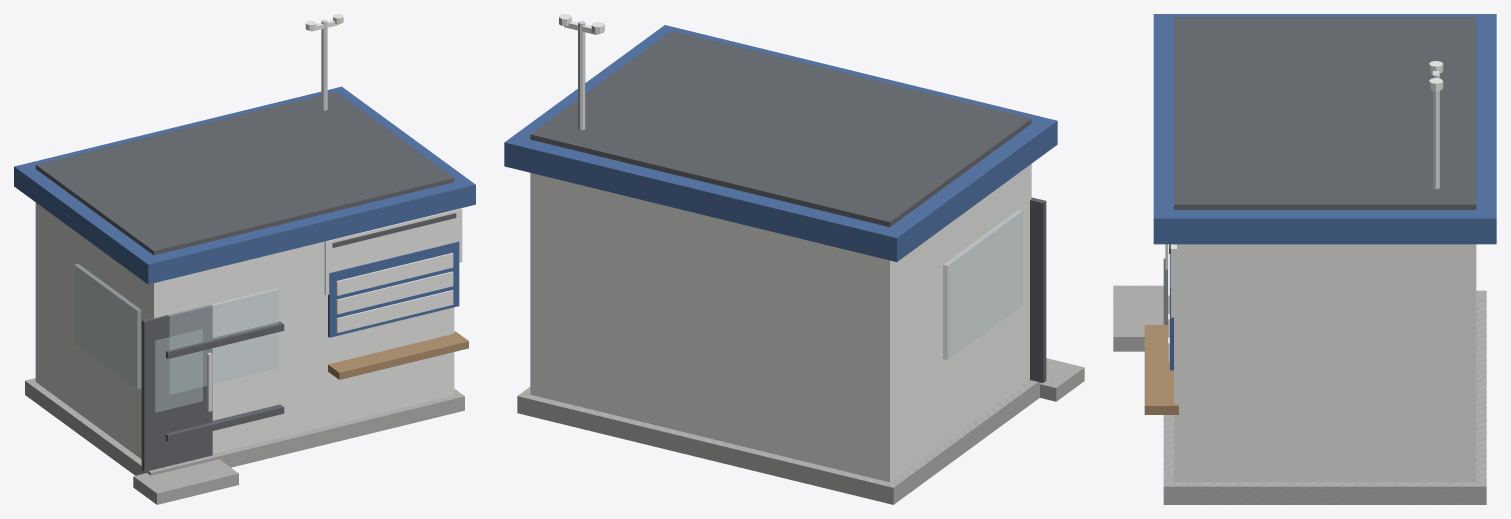
3 renders of one model, left to right at view 1: azimuth 30°, elevation 25°; view 2: azimuth 150°, elevation 25°; view 3: azimuth 270°, elevation 25°, orthographic. The views are drawn at different scales.
Parts seen in each view (by area): view 1: marina-and-yacht-club-race-office, office-door/charcoal, office-hatch/gel, office-door/glass, office-hatch/charcoal; view 2: marina-and-yacht-club-race-office, office-door/charcoal; view 3: marina-and-yacht-club-race-office, office-hatch/gel.
Part boxes in pixels (x1=…): marina-and-yacht-club-race-office: x1=14, y1=14, x2=475, y2=504; office-door/charcoal: x1=141, y1=304, x2=212, y2=471; office-hatch/gel: x1=324, y1=208, x2=462, y2=295; office-door/glass: x1=154, y1=329, x2=202, y2=412; office-hatch/charcoal: x1=332, y1=213, x2=456, y2=247; marina-and-yacht-club-race-office: x1=504, y1=14, x2=1084, y2=504; office-door/charcoal: x1=1030, y1=197, x2=1046, y2=382; marina-and-yacht-club-race-office: x1=1113, y1=14, x2=1496, y2=504; office-hatch/gel: x1=1171, y1=244, x2=1176, y2=317.
Size of the model in its own units: 4.9 by 4.5 by 3.8.
Materials: 7 (1 with a texture image).
